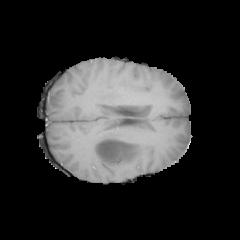glioma: (91, 132, 144, 170)
